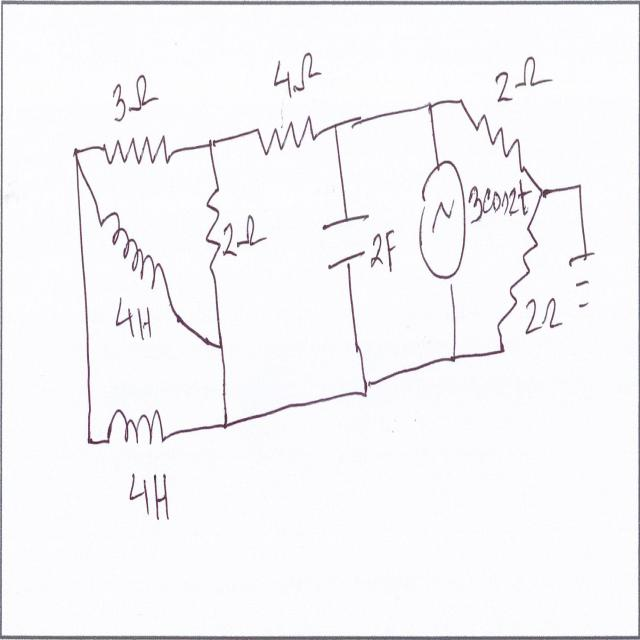capacitor: (323, 207, 371, 280)
current_source: (418, 157, 467, 285)
ground: (565, 242, 599, 314)
inductor: (100, 205, 168, 294), (104, 395, 166, 461)
resistor: (495, 214, 537, 339), (255, 104, 319, 161), (474, 103, 527, 170), (102, 130, 172, 172), (204, 183, 224, 280)
